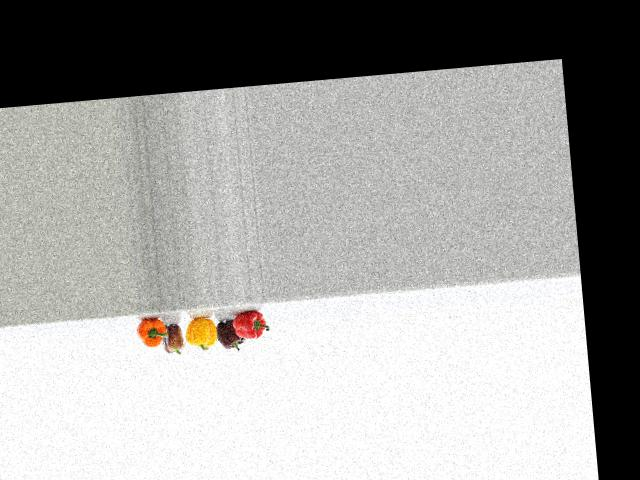bell_pepper: (134, 313, 170, 358)
